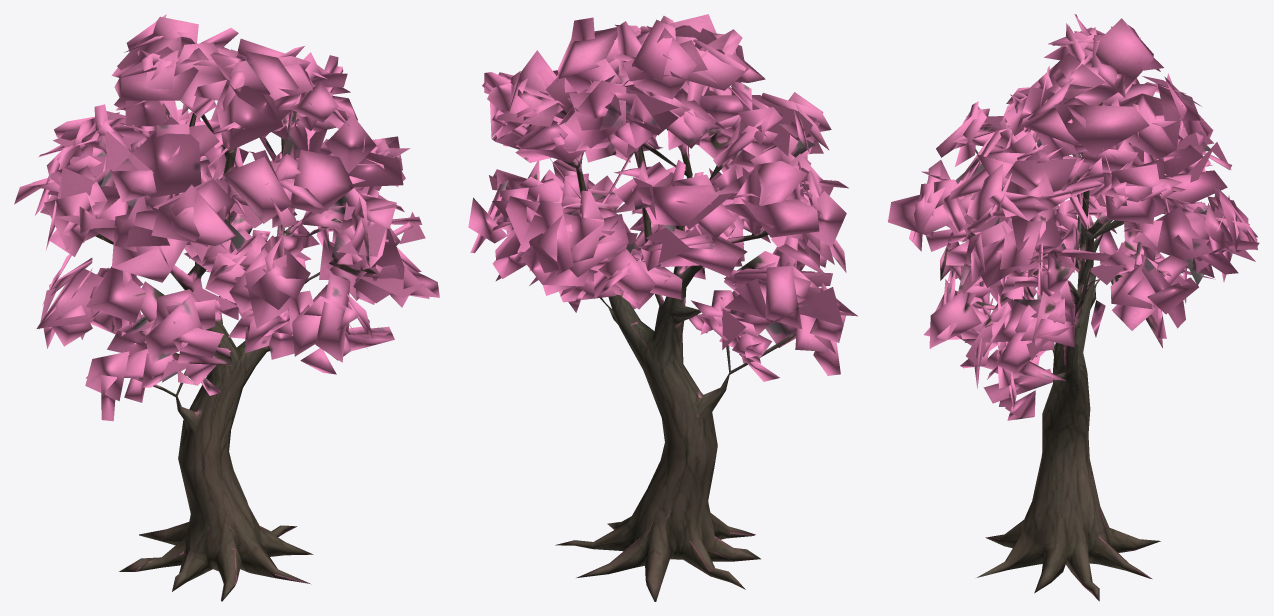
The model's file is Sakuratree.glb.
3 renders of one model, left to right at view 1: azimuth 30°, elevation 25°; view 2: azimuth 150°, elevation 25°; view 3: azimuth 270°, elevation 25°, orthographic. The views are drawn at different scales.
Bounding box in the file's own units: 0.6924 × 0.9541 × 0.6152.
1 material, 1 textured.
